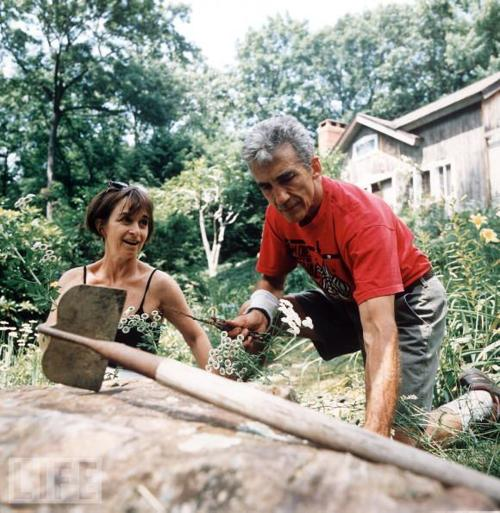person: (216, 115, 500, 458)
